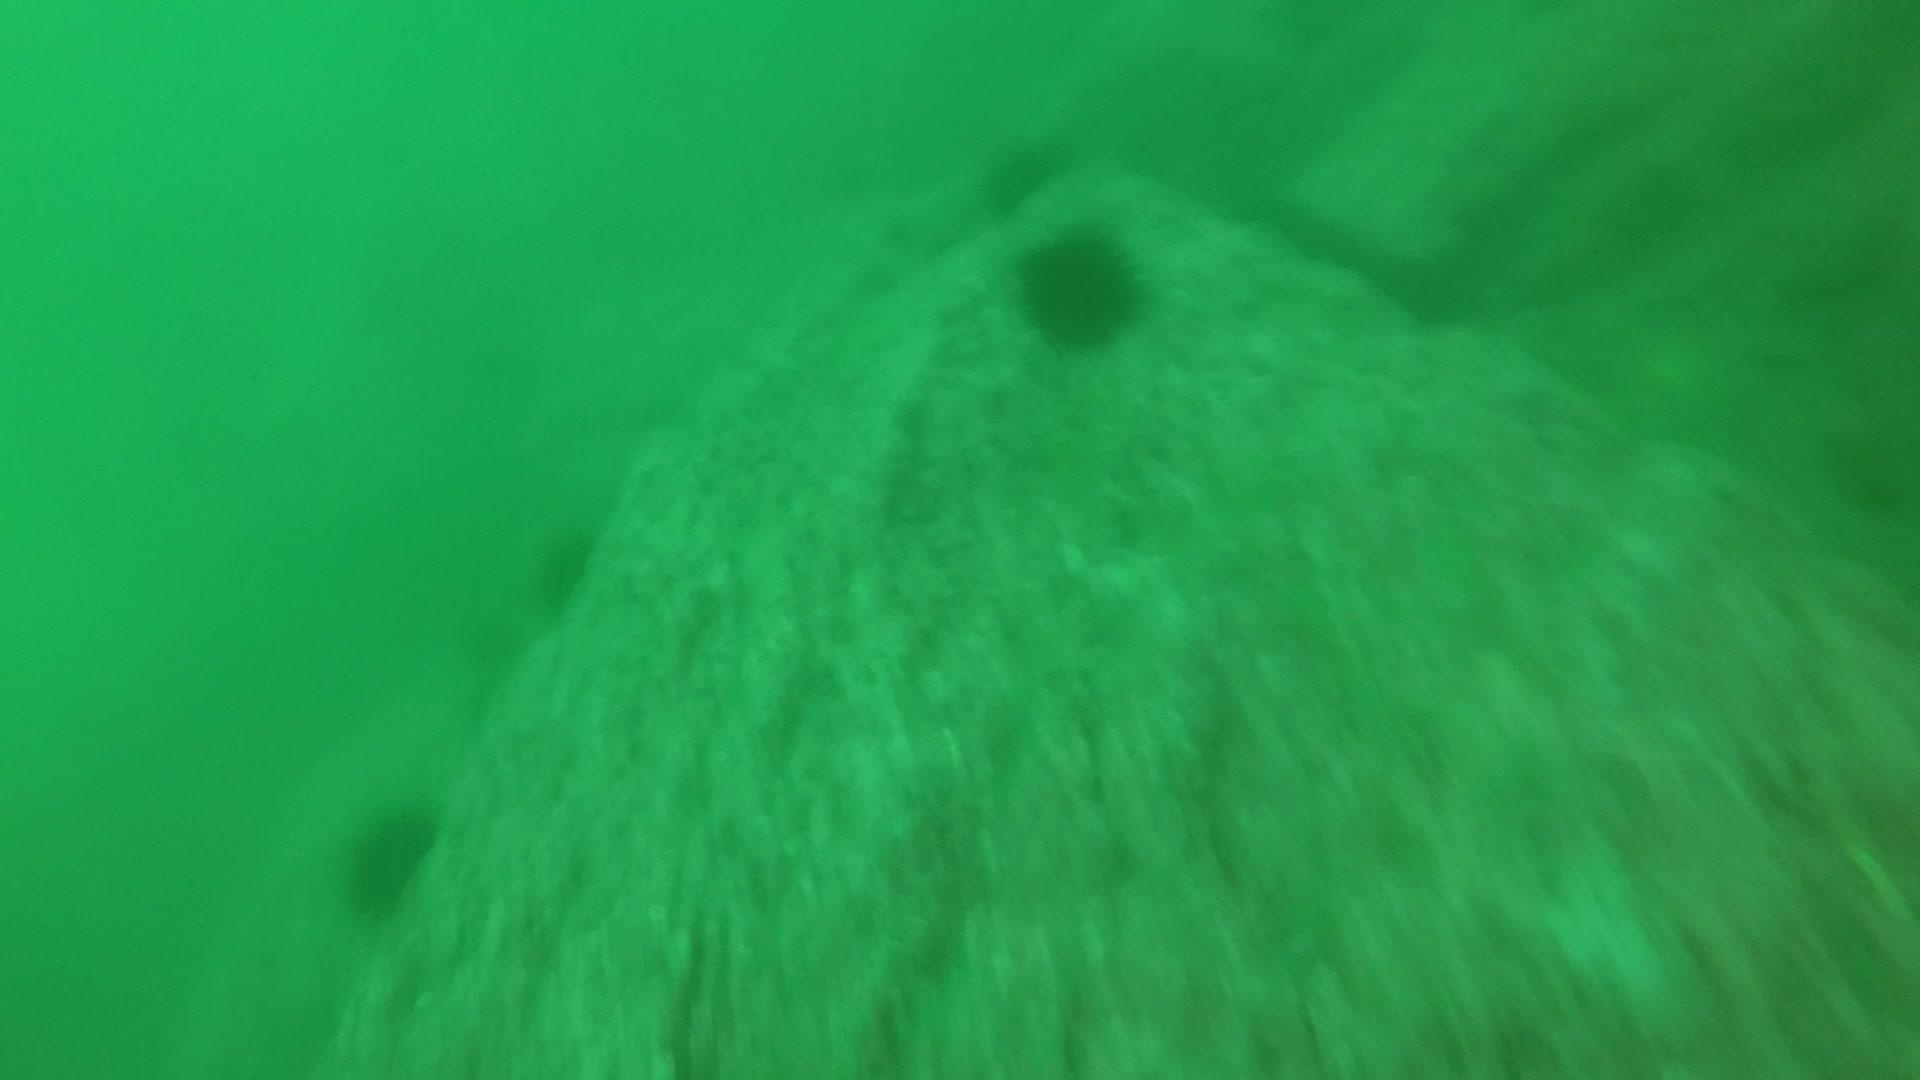echinus: (1007, 219, 1151, 353), (335, 794, 446, 922), (975, 128, 1069, 216), (526, 520, 604, 616)
